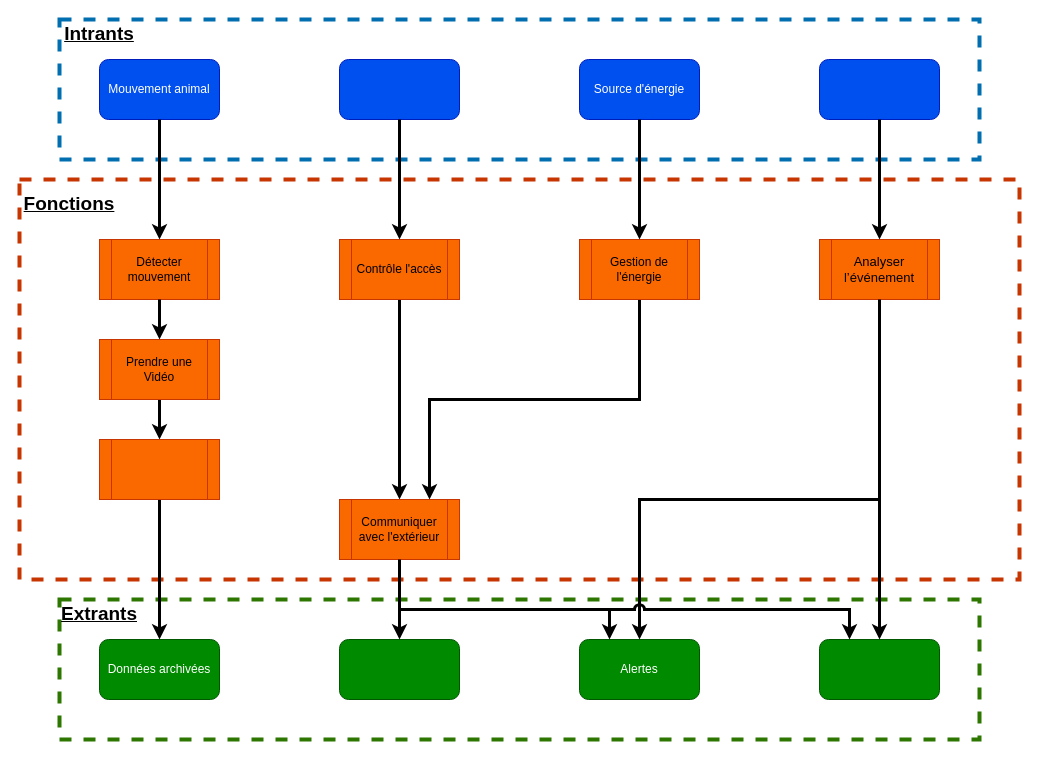
Some shapes in this 1038 by 758 pixel diagram are drawn without their labels. Each missing label, with the centre of its shape:
"Commande d'utilisateur" goes at point (399, 89).
"Enregistrer les vidéos" goes at point (159, 469).
"Interface" goes at point (399, 669).
"état du système" goes at point (879, 669).
"Évenement système" goes at point (879, 89).
